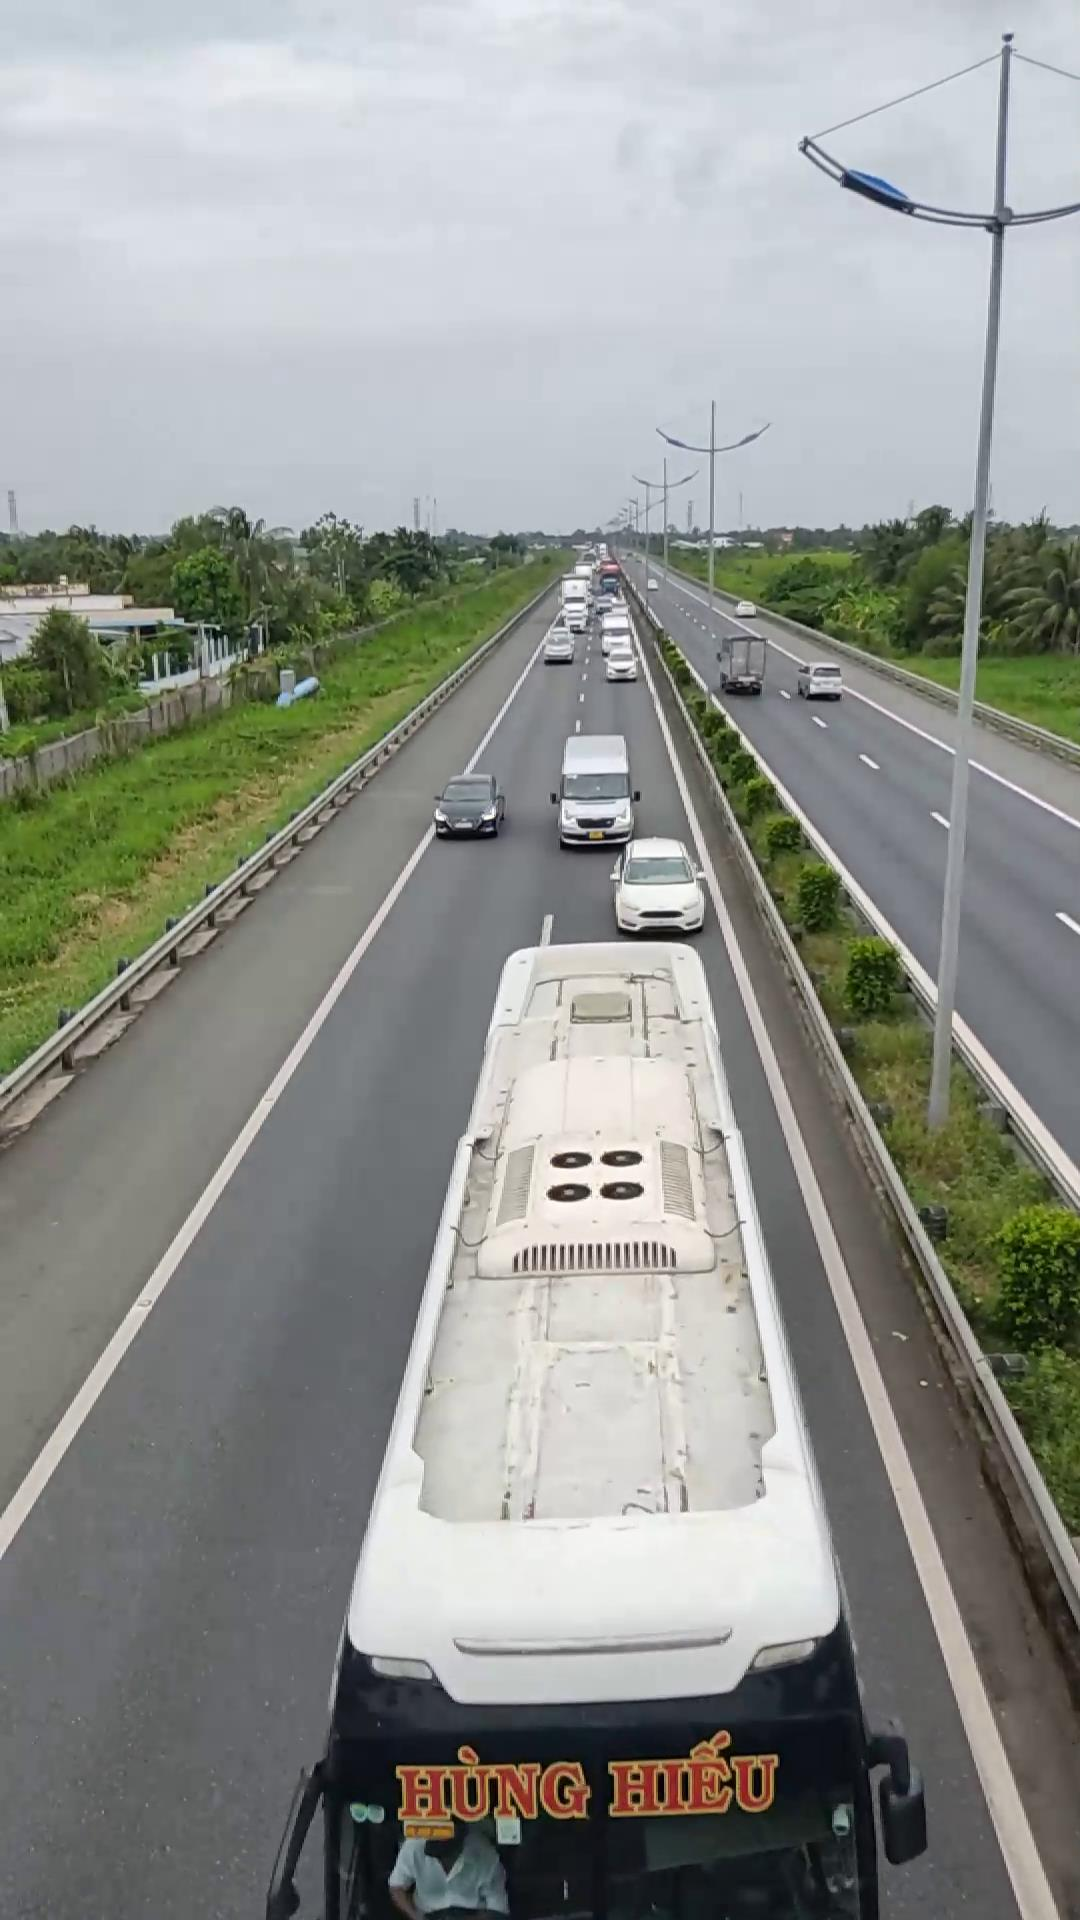bus: (332, 936, 898, 1885)
car: (552, 732, 639, 848), (609, 835, 706, 938), (431, 773, 505, 838)
